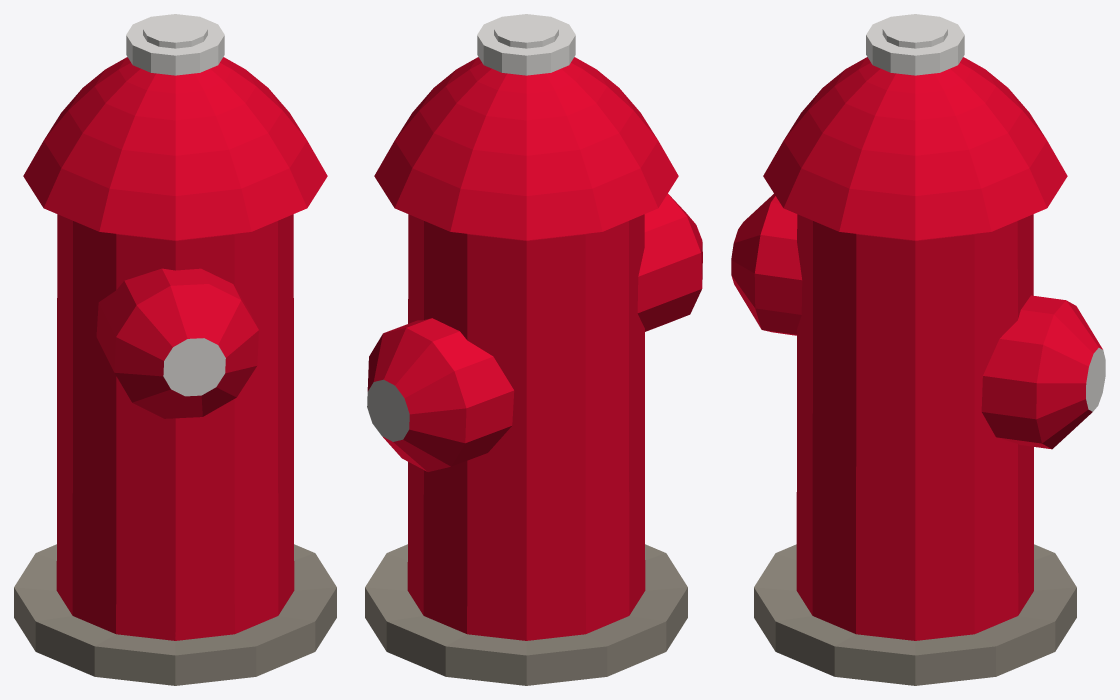
Rendered from Fire_Hydrantfbx.fbx.
The picture shows the model from 3 angles, left to right: view 1: azimuth 30°, elevation 25°; view 2: azimuth 150°, elevation 25°; view 3: azimuth 270°, elevation 25°; orthographic projection.
Parts seen in each view (by area): view 1: Hydrant; view 2: Hydrant; view 3: Hydrant.
Part boxes in pixels (x1=…): Hydrant: x1=14, y1=14, x2=336, y2=685; Hydrant: x1=365, y1=14, x2=702, y2=685; Hydrant: x1=731, y1=14, x2=1105, y2=685.
Size of the model in its own units: 0.8975 by 1.81 by 1.04.
